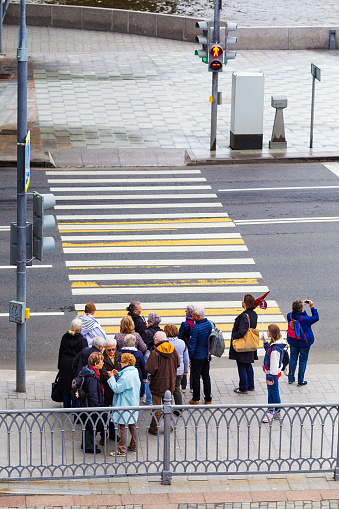person: (72, 351, 106, 452), (109, 354, 142, 455), (229, 294, 260, 395), (286, 298, 319, 385), (187, 307, 216, 405), (261, 324, 287, 423)
